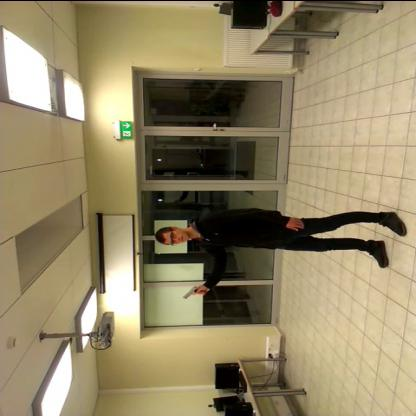Pistol: (178, 282, 210, 302)
